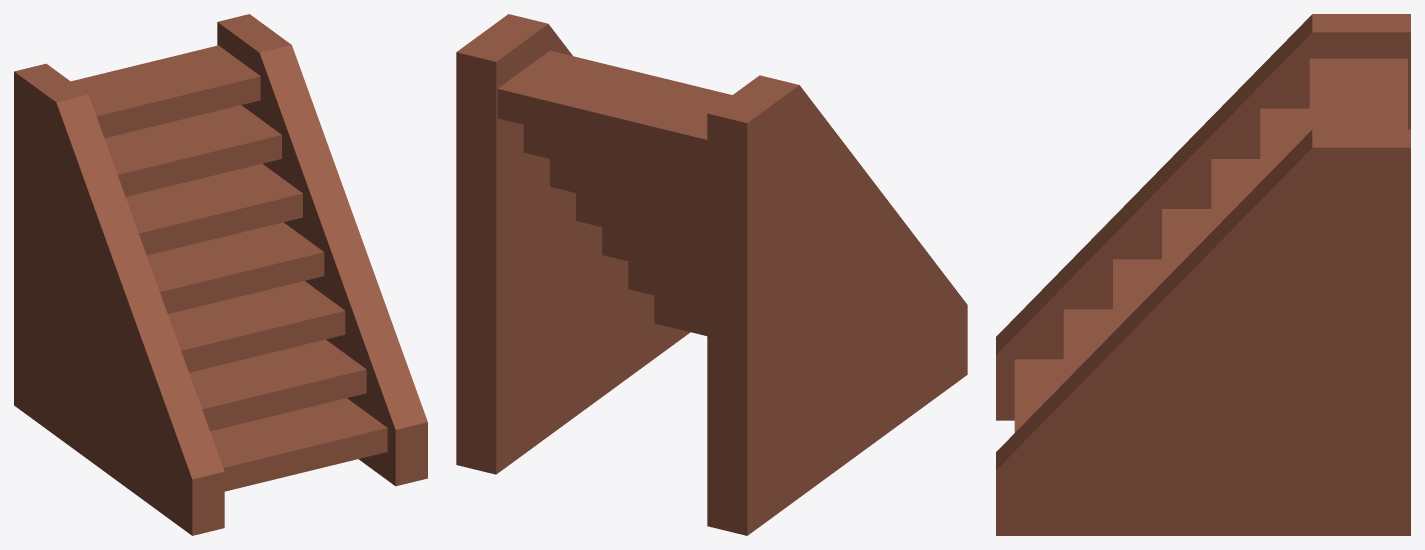
File: stairs.fbx
3 renders of one model, left to right at view 1: azimuth 30°, elevation 25°; view 2: azimuth 150°, elevation 25°; view 3: azimuth 270°, elevation 25°, orthographic. The views are drawn at different scales.
Parts seen in each view (by area): view 1: stairs; view 2: stairs; view 3: stairs.
Boxes of the visible parts, x1,y1,x2,y2 form: stairs: (14, 14, 427, 535); stairs: (456, 14, 967, 535); stairs: (996, 14, 1410, 535).
Size of the model in its own units: 99.67 by 135 by 131.
